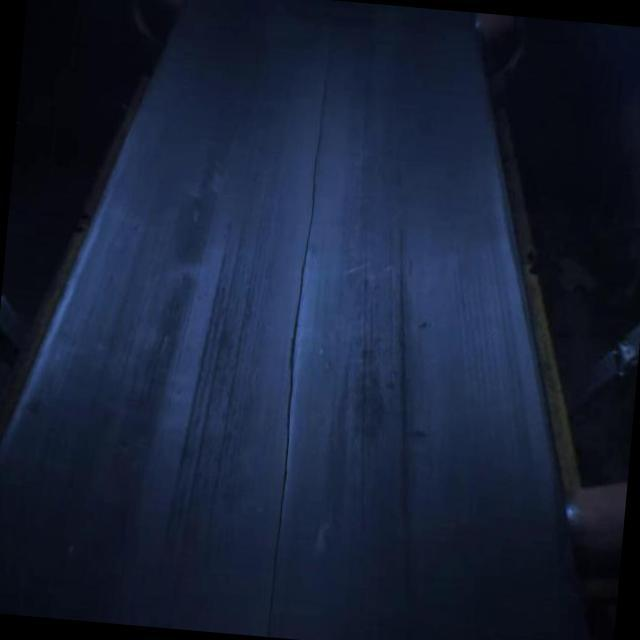Tear: (252, 40, 348, 640)
